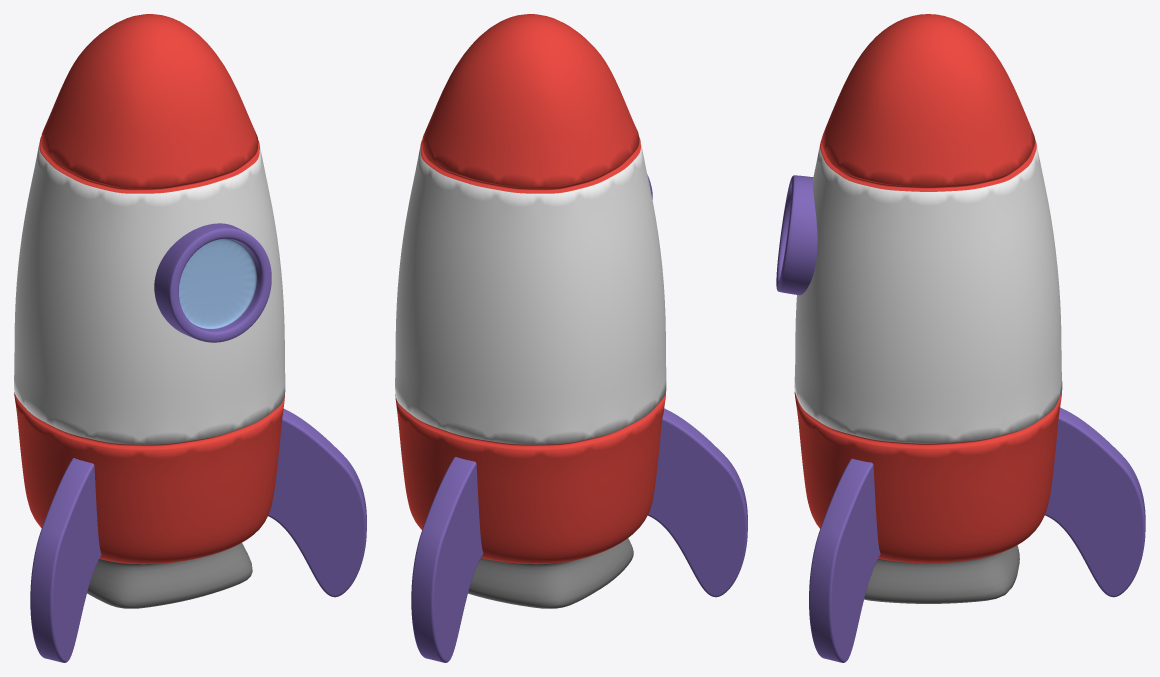
The model's file is ship.fbx.
The picture shows the model from 3 angles, left to right: view 1: azimuth 30°, elevation 25°; view 2: azimuth 150°, elevation 25°; view 3: azimuth 270°, elevation 25°; orthographic projection.
Parts seen in each view (by area): view 1: Cube, BezierCircle.002, Cylinder, BezierCircle; view 2: Cube, BezierCircle, BezierCircle.001; view 3: Cube, BezierCircle.001, BezierCircle.002, Cylinder.
Boxes of the visible parts, x1,y1,x2,y2 form: Cube: (14, 14, 285, 608); BezierCircle.002: (268, 409, 366, 597); Cylinder: (154, 223, 271, 342); BezierCircle: (30, 458, 101, 662); Cube: (395, 14, 666, 608); BezierCircle: (647, 408, 747, 597); BezierCircle.001: (411, 457, 483, 662); Cube: (794, 14, 1062, 603); BezierCircle.001: (1045, 407, 1145, 597); BezierCircle.002: (809, 458, 880, 662); Cylinder: (776, 175, 817, 295).
Size of the model in its own units: 289 by 472 by 276.
